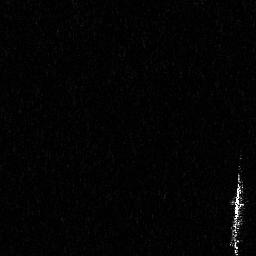ship: (230, 182, 244, 249)
